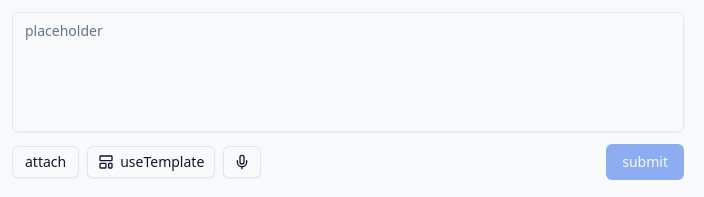
Test: TaskForm › enables submit when goal has text
The image size is (704, 197).
Type "Research competitors" into the text box at (348, 72), box [12,12,684,132]
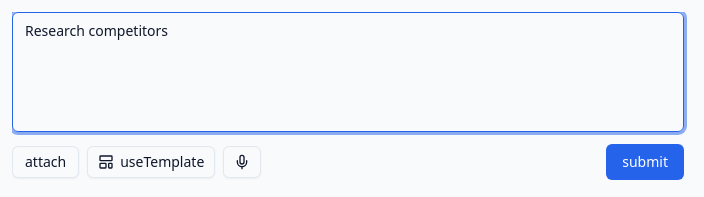
Now the button "submit" is enabled, box [606,144,684,180]
